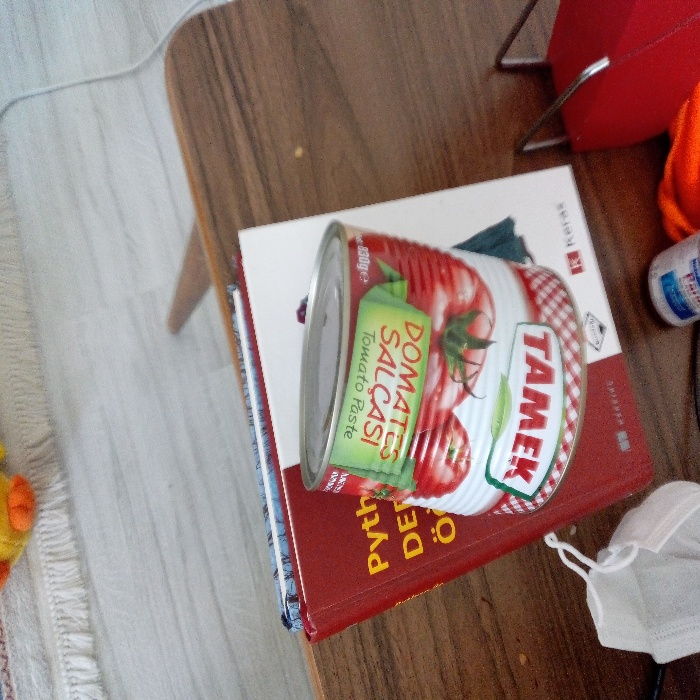salca: (287, 198, 595, 519)
